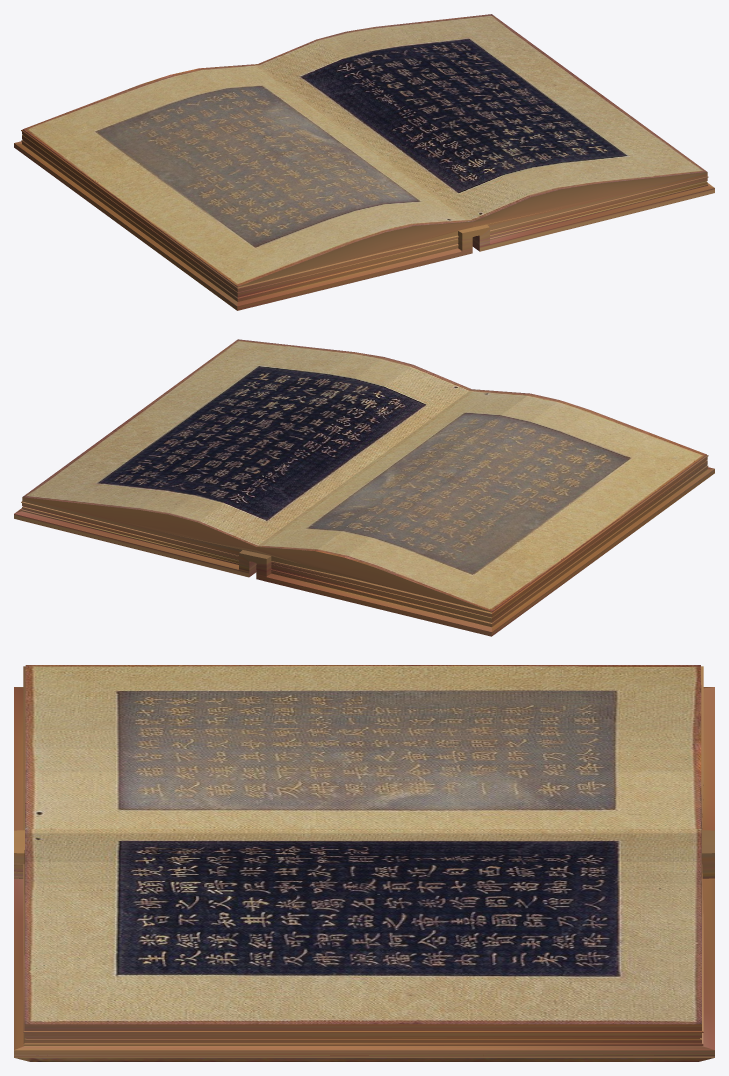
The model's file is Book_2_JBischer.fbx.
3 renders of one model, top to bottom at view 1: azimuth 30°, elevation 25°; view 2: azimuth 150°, elevation 25°; view 3: azimuth 270°, elevation 25°, orthographic. The views are drawn at different scales.
Visible parts, largest first — view 1: Cube; view 2: Cube; view 3: Cube.
Part boxes in pixels (box(x1,y1,x2,y2)): Cube: box(14, 14, 714, 310); Cube: box(14, 339, 714, 636); Cube: box(14, 665, 714, 1061).
Bounding box in the file's own units: 770 × 72.55 × 623.
